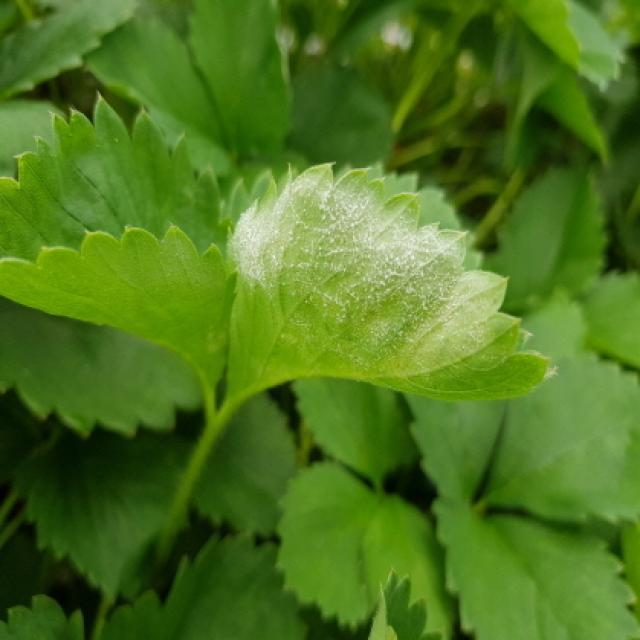powdery_mildew_leaf: (227, 161, 557, 405)
